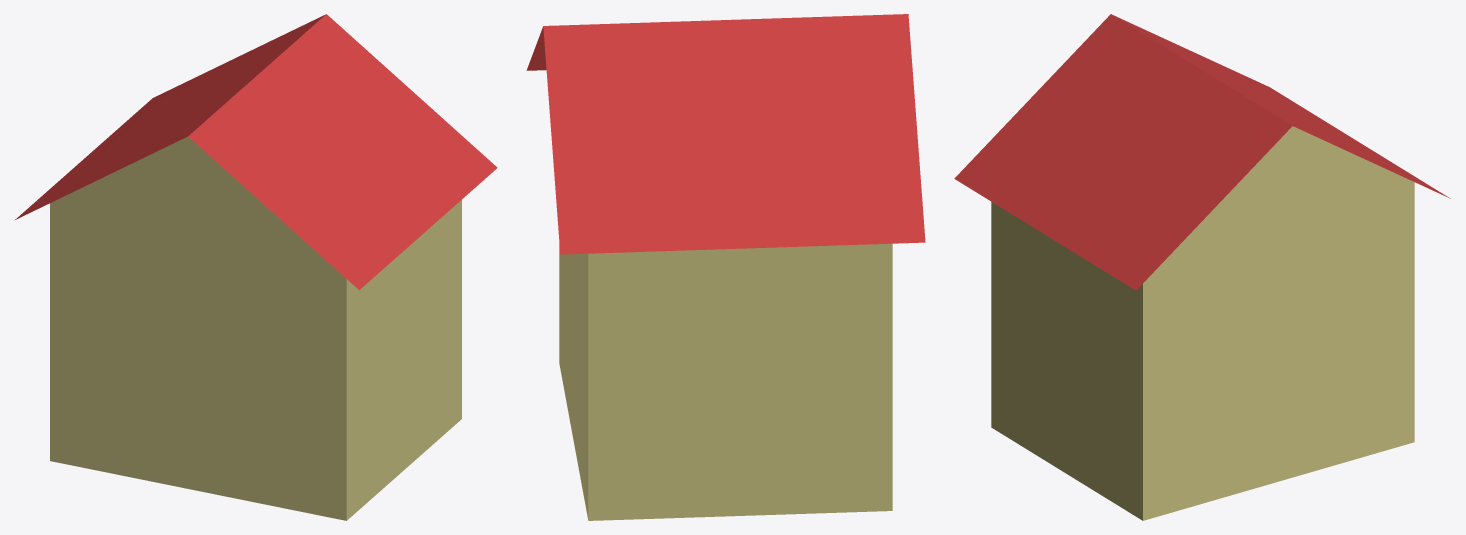
3 views of the same model, side by side, from view 1: azimuth 30°, elevation 25°; view 2: azimuth 150°, elevation 25°; view 3: azimuth 270°, elevation 25° (orthographic). The views are drawn at different scales.
Bounding box in the file's own units: 13.48 × 13.93 × 11.28.
